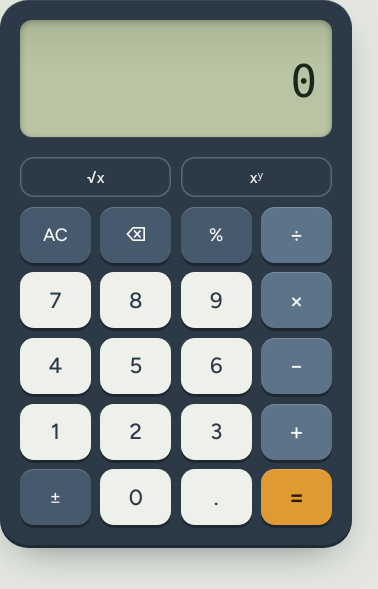
Test: <Calculator /> › chains operations left to right
The width and height of the screenshot is (378, 589).
Click the button "2" at (136, 432), box [100,404,171,460]
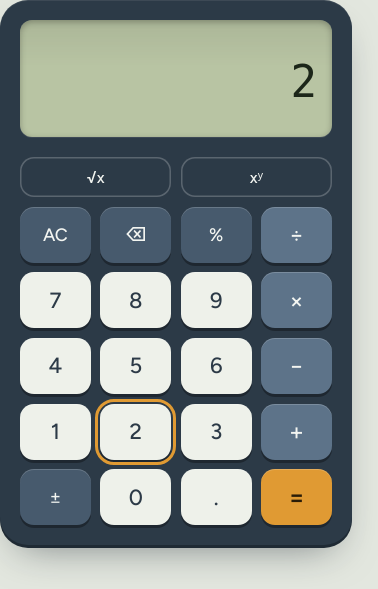
Click the button named "Add" at (297, 432), box [261,404,332,460]
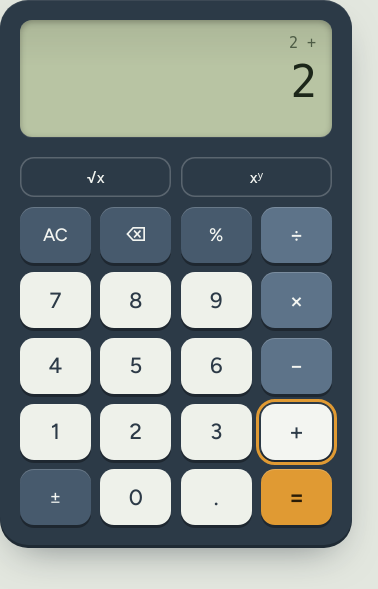
Click the button "3" at (216, 432), box [181,404,252,460]
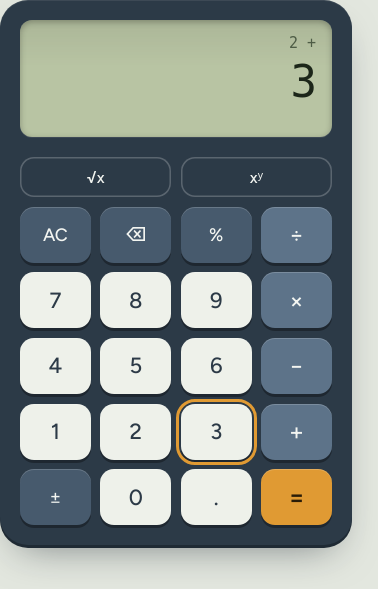
Click the button named "Multiply" at (297, 300), box [261,272,332,328]
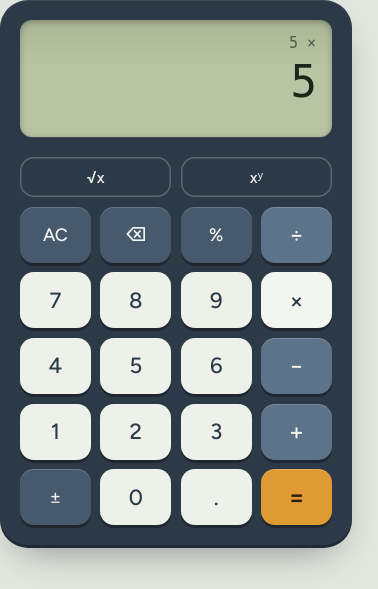
Check: the text with test id "display" reads "5", box [290,56,316,107]
Click the button "4" at (55, 366), box [20,338,91,394]
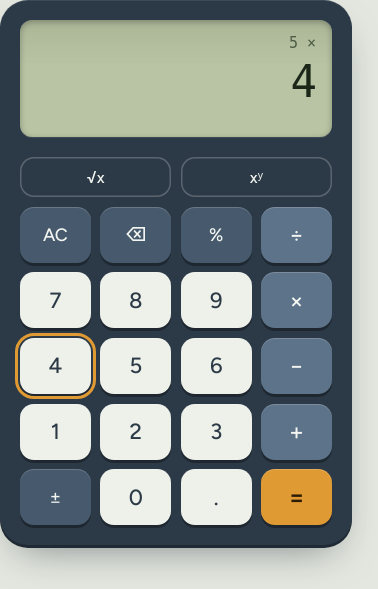
Click the button named "Equals" at (297, 497), box [261,469,332,525]
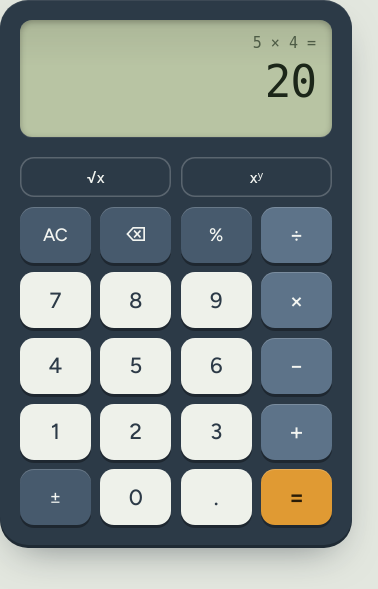
Check: the text with test id "display" reads "20", box [265,56,316,107]
